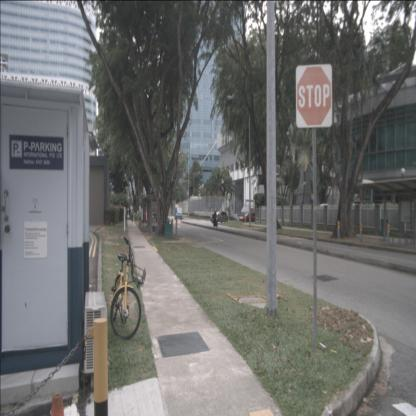movable_object-trafficcone: (50, 393, 66, 415)
vehicle-bicycle: (110, 236, 146, 340), (137, 218, 145, 230)
vehicle-car: (238, 212, 258, 223), (210, 211, 228, 223), (175, 207, 183, 220)
vehicle-motorcycle: (212, 209, 218, 228)
